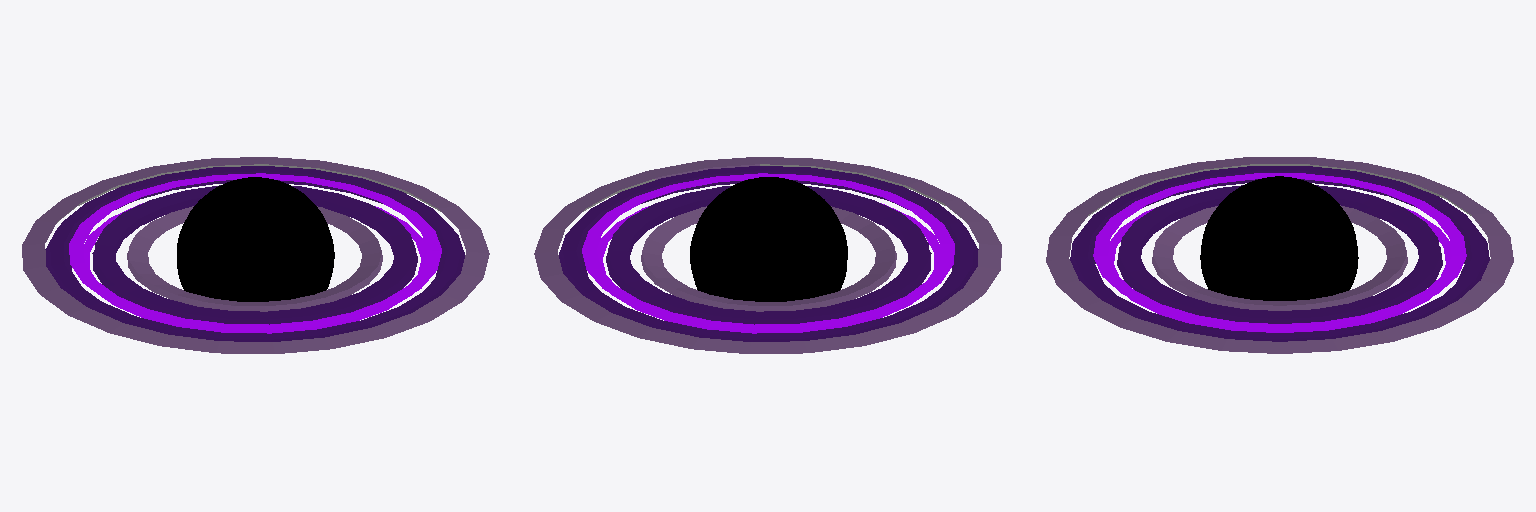
File: ring4.obj
3 renders of one model, left to right at view 1: azimuth 30°, elevation 25°; view 2: azimuth 150°, elevation 25°; view 3: azimuth 270°, elevation 25°, orthographic.
Parts seen in each view (by area): view 1: pTorus1, pSphere1; view 2: pTorus1, pSphere1; view 3: pTorus1, pSphere1.
Part boxes in pixels (x1,y1,x2,y2): pTorus1: (22, 157, 489, 353); pSphere1: (177, 177, 334, 301); pTorus1: (534, 157, 1001, 353); pSphere1: (690, 177, 847, 301); pTorus1: (1046, 157, 1513, 353); pSphere1: (1200, 176, 1358, 300).
Size of the model in its own units: 50.97 by 17.29 by 51.07.